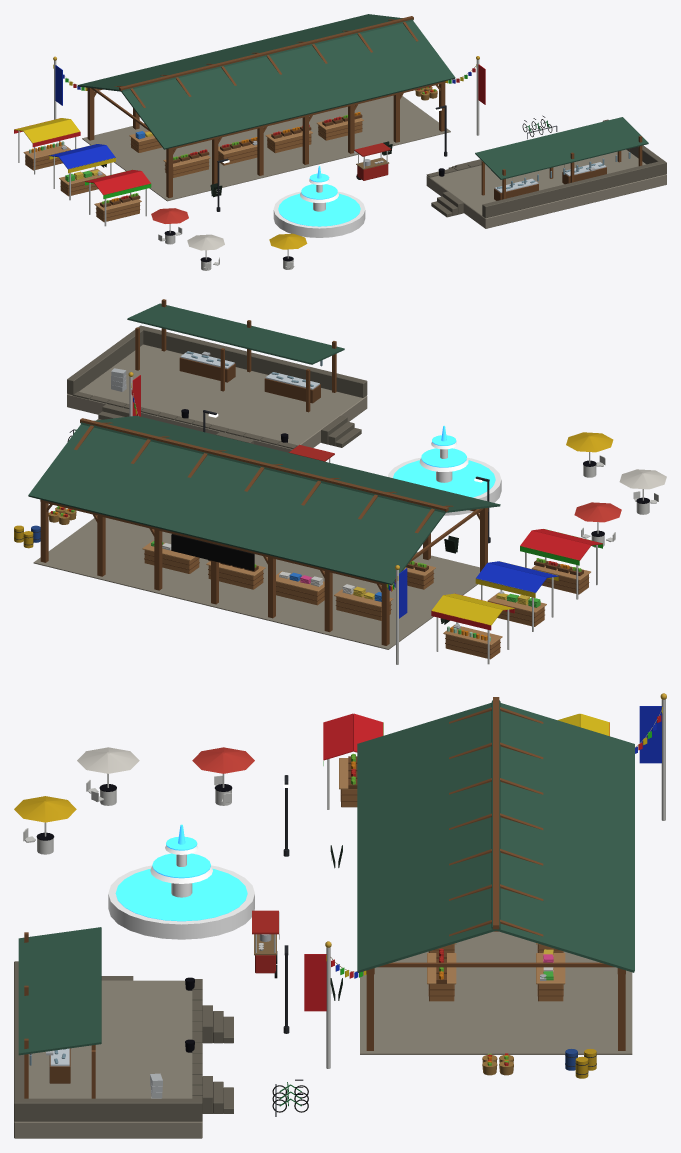
Rendered from tf-market-p4.glb.
3 renders of one model, top to bottom at view 1: azimuth 30°, elevation 25°; view 2: azimuth 150°, elevation 25°; view 3: azimuth 270°, elevation 25°, orthographic. The views are drawn at different scales.
Visible parts, largest first — view 1: tf-market-p4; view 2: tf-market-p4; view 3: tf-market-p4.
Part boxes in pixels (x1,y1,x2,y2): tf-market-p4: [14, 14, 666, 270]; tf-market-p4: [14, 299, 666, 664]; tf-market-p4: [14, 693, 666, 1138].
Size of the model in its own units: 41.1 by 7.01 by 31.15.
